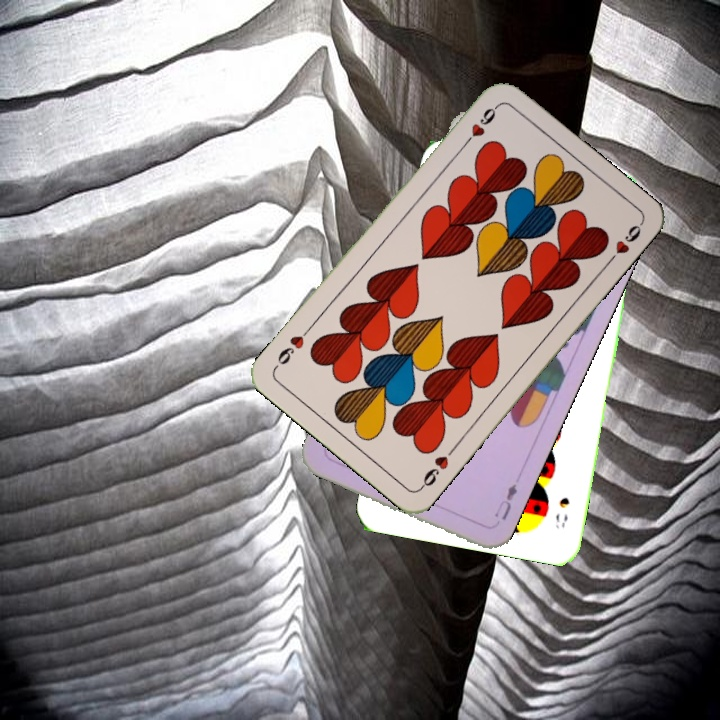EU: (490, 480, 520, 523)
H9: (416, 443, 459, 492), (458, 101, 501, 150)
S8: (551, 493, 572, 531)
